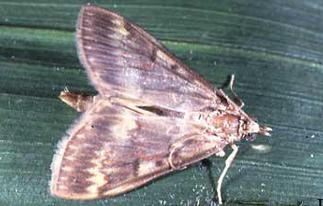pest: (64, 6, 260, 201)
